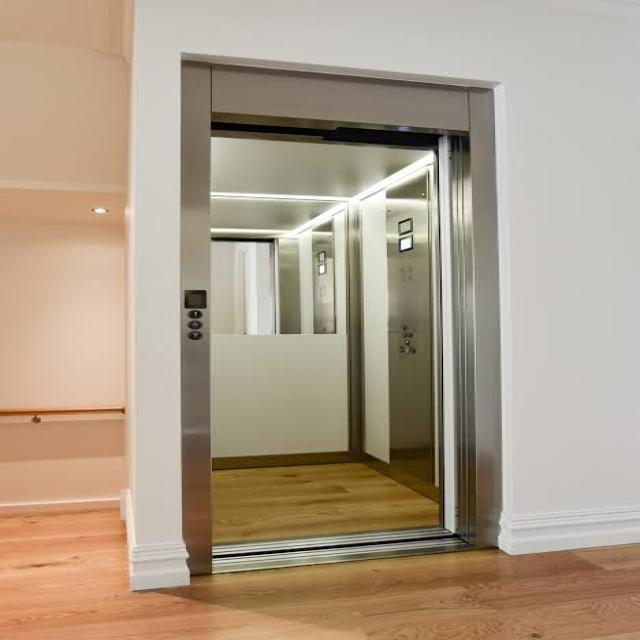elevator: (170, 45, 520, 583)
